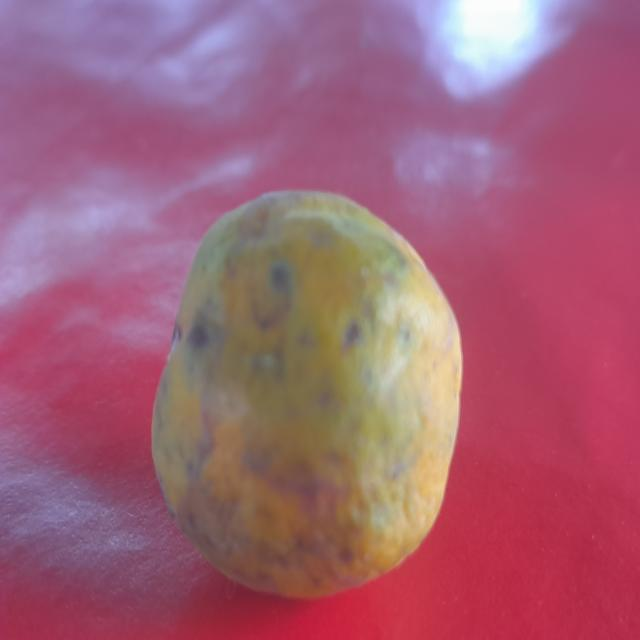black spot: (144, 182, 464, 593)
